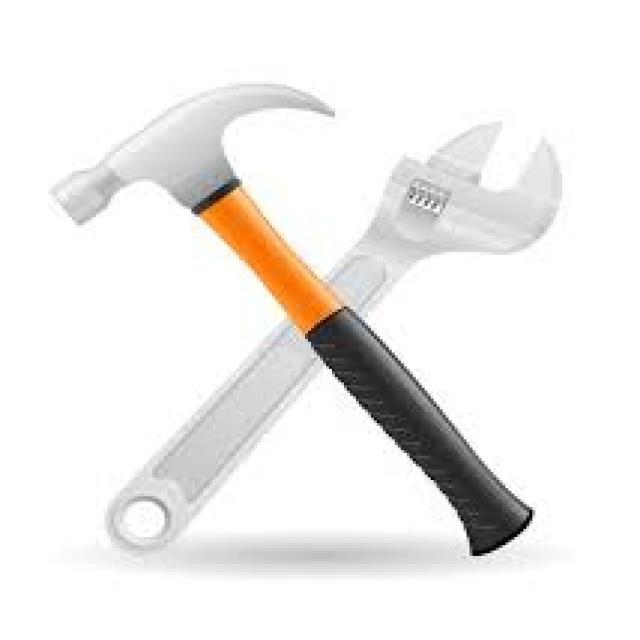Palu: (39, 80, 544, 570)
